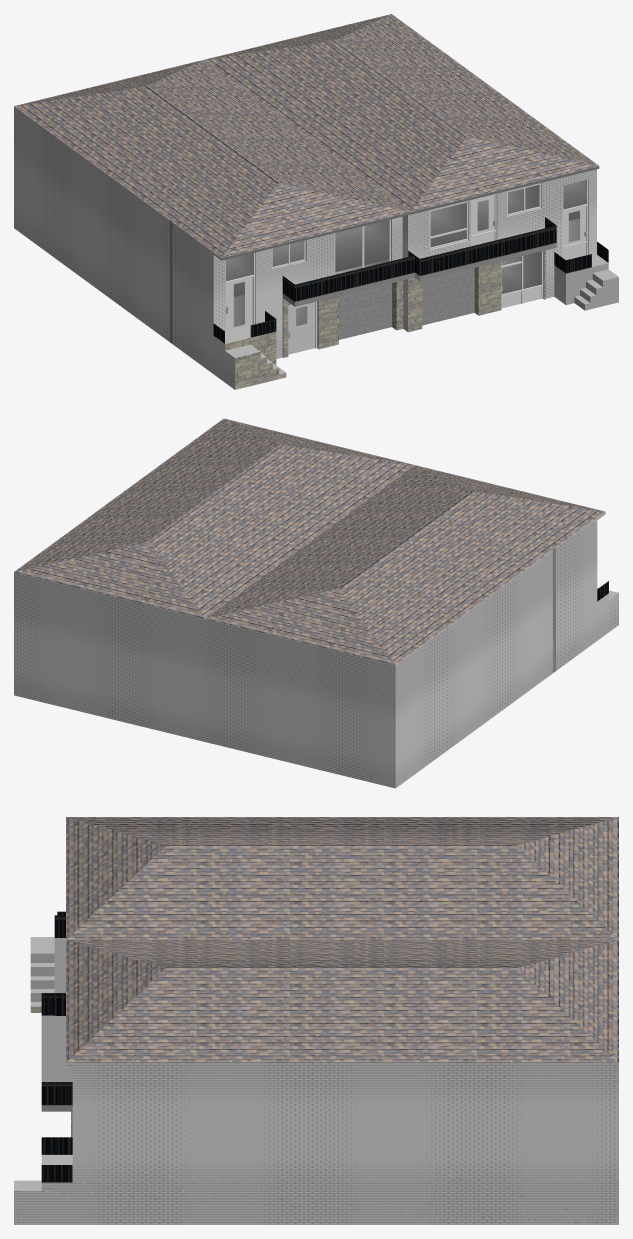
File: ResidentialHouse 06.fbx
3 renders of one model, top to bottom at view 1: azimuth 30°, elevation 25°; view 2: azimuth 150°, elevation 25°; view 3: azimuth 270°, elevation 25°, orthographic. The views are drawn at different scales.
Visible parts, largest first — view 1: Residential House 06; view 2: Residential House 06; view 3: Residential House 06.
Boxes of the visible parts, bbox=[...] form: Residential House 06: bbox=[14, 14, 618, 389]; Residential House 06: bbox=[14, 418, 618, 788]; Residential House 06: bbox=[14, 817, 618, 1224].
Bounding box in the file's own units: 1704 × 633 × 1776.
1 material, 1 textured.
